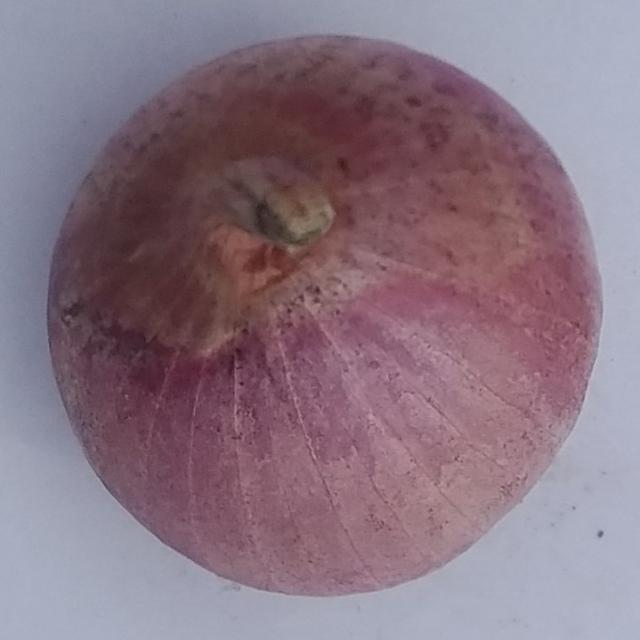onion: (45, 36, 607, 599)
